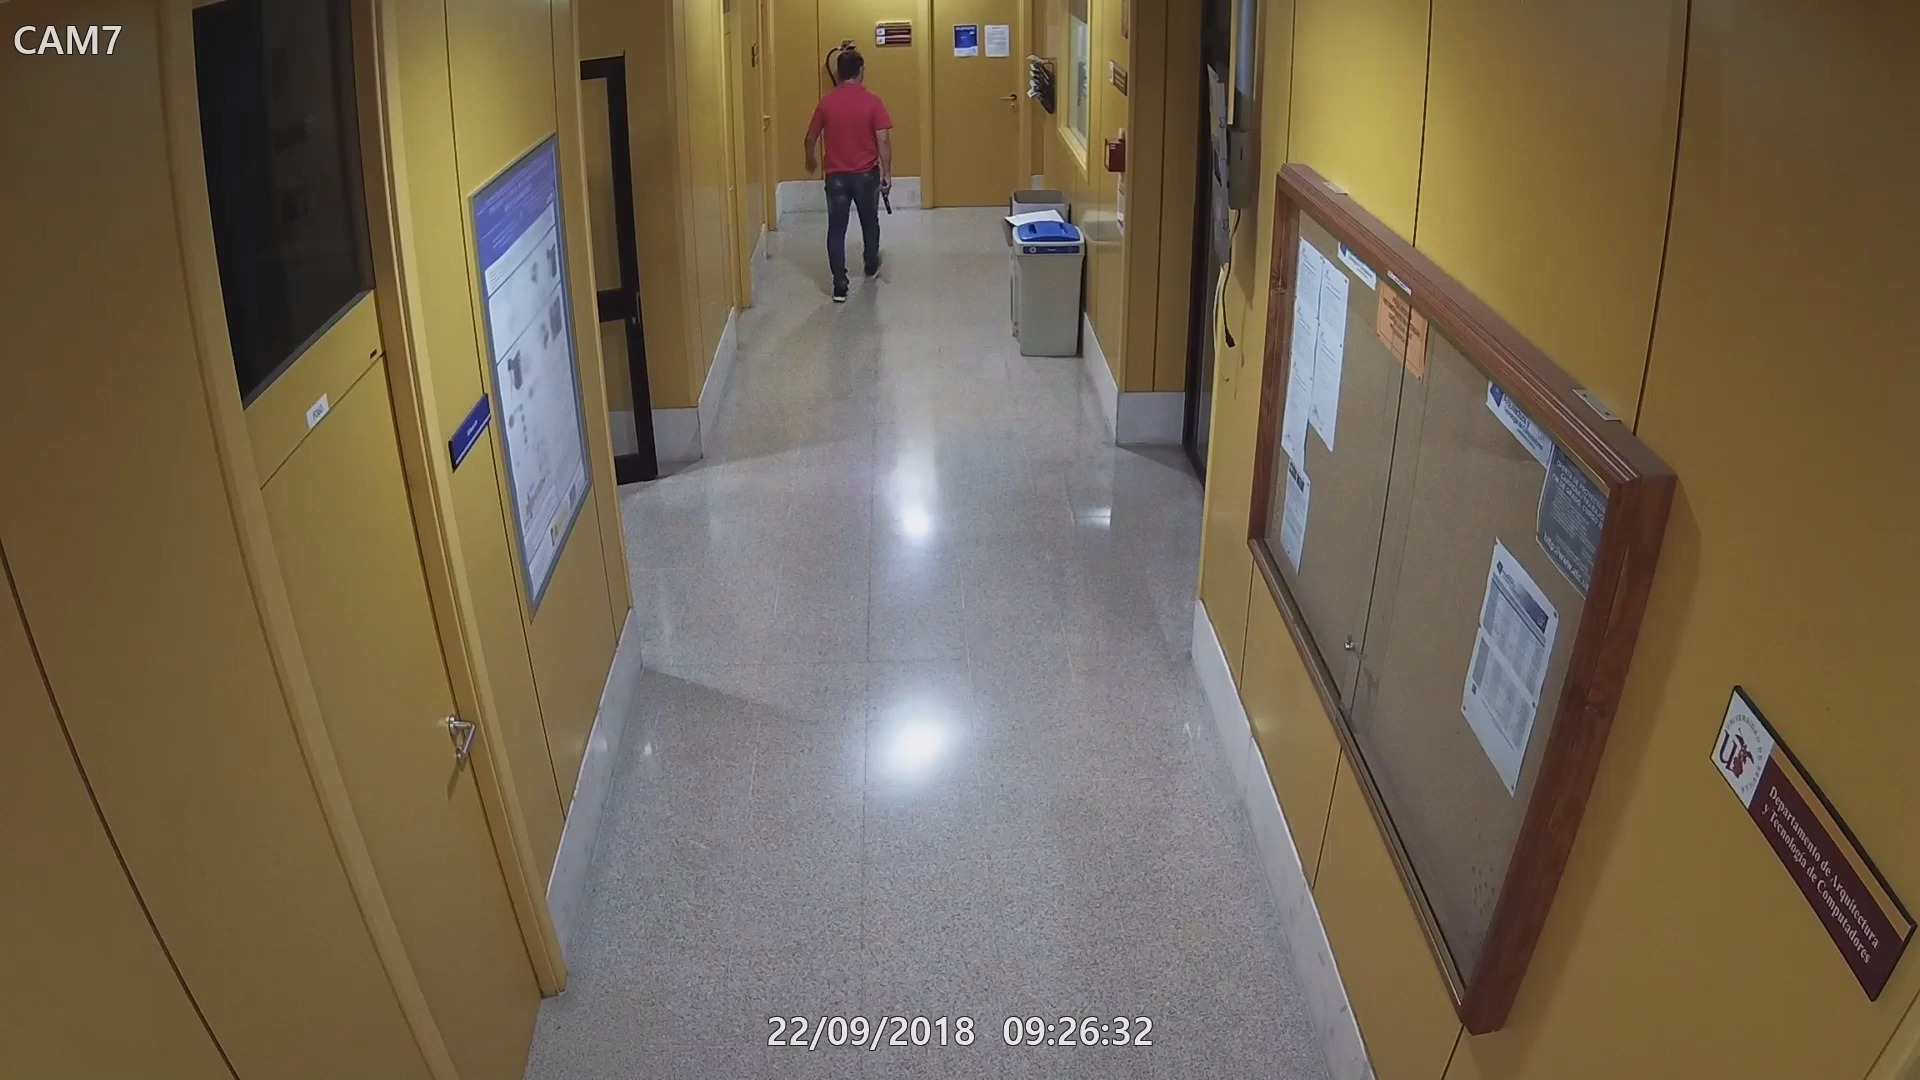Handgun: (874, 177, 899, 215)
